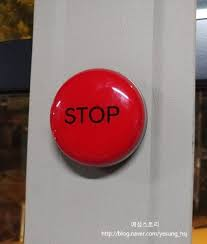bell: (46, 67, 151, 178)
